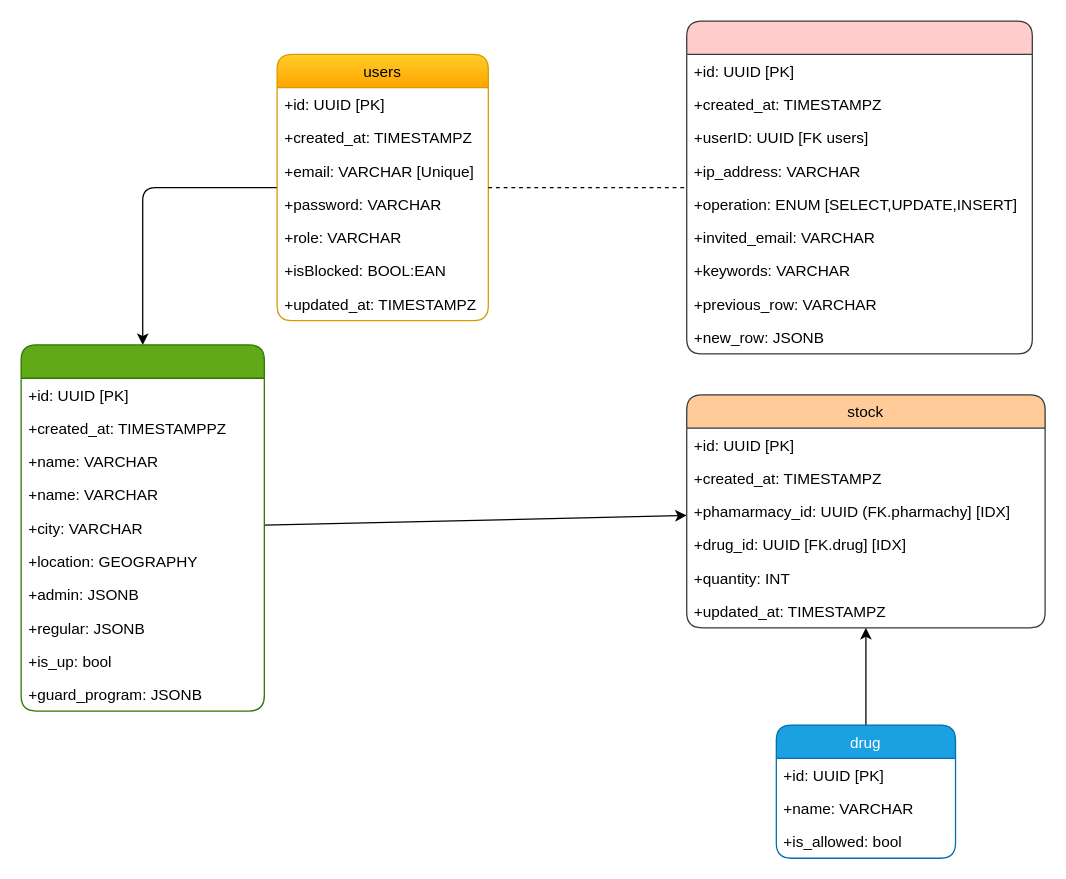
Image size: 1066x879. Some labels were removed from this diagram. Here are the shapes that lost their labels. From the top down, the box of each, then its label:
(685, 20, 1032, 354): Logs (Actually we will use a tool for it)
(20, 344, 264, 711): phamacy
